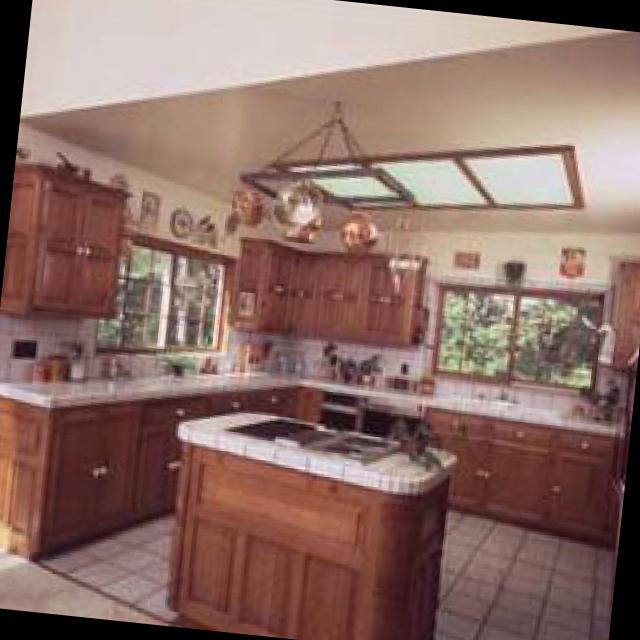2001: (277, 145, 578, 206), (430, 279, 600, 386), (93, 234, 231, 352)
box contants: (232, 339, 258, 365)
cabinet door: (601, 249, 640, 368)
cabinets: (0, 383, 624, 558), (162, 441, 445, 640), (229, 234, 422, 347), (0, 162, 125, 318)
counter bottom: (0, 363, 620, 432), (170, 407, 450, 493)
decorative plate: (165, 202, 188, 232)
dishwasher: (358, 392, 420, 435)
hanging pot: (243, 97, 412, 207)
jar -X: (40, 346, 67, 376), (68, 337, 85, 378), (27, 357, 40, 379)
painting crop: (554, 242, 582, 272), (137, 185, 158, 224), (452, 246, 478, 264)
plant -x: (156, 349, 195, 372)
pot hanger: (273, 177, 321, 238), (338, 206, 377, 253), (227, 185, 262, 226), (54, 147, 90, 172)
sink basin: (430, 389, 518, 408)
sink occluded: (491, 372, 514, 400)
stove burner: (224, 413, 398, 460)
wall outlets: (10, 335, 37, 355), (396, 359, 404, 369)
